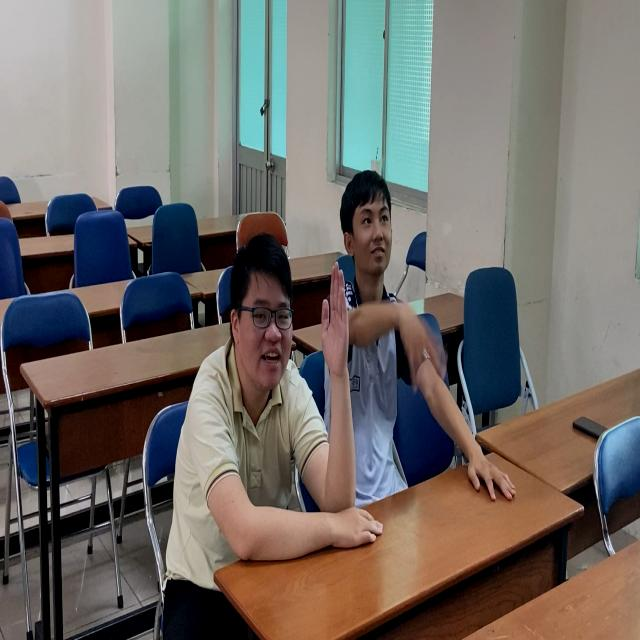raise_hand: (166, 225, 353, 577)
